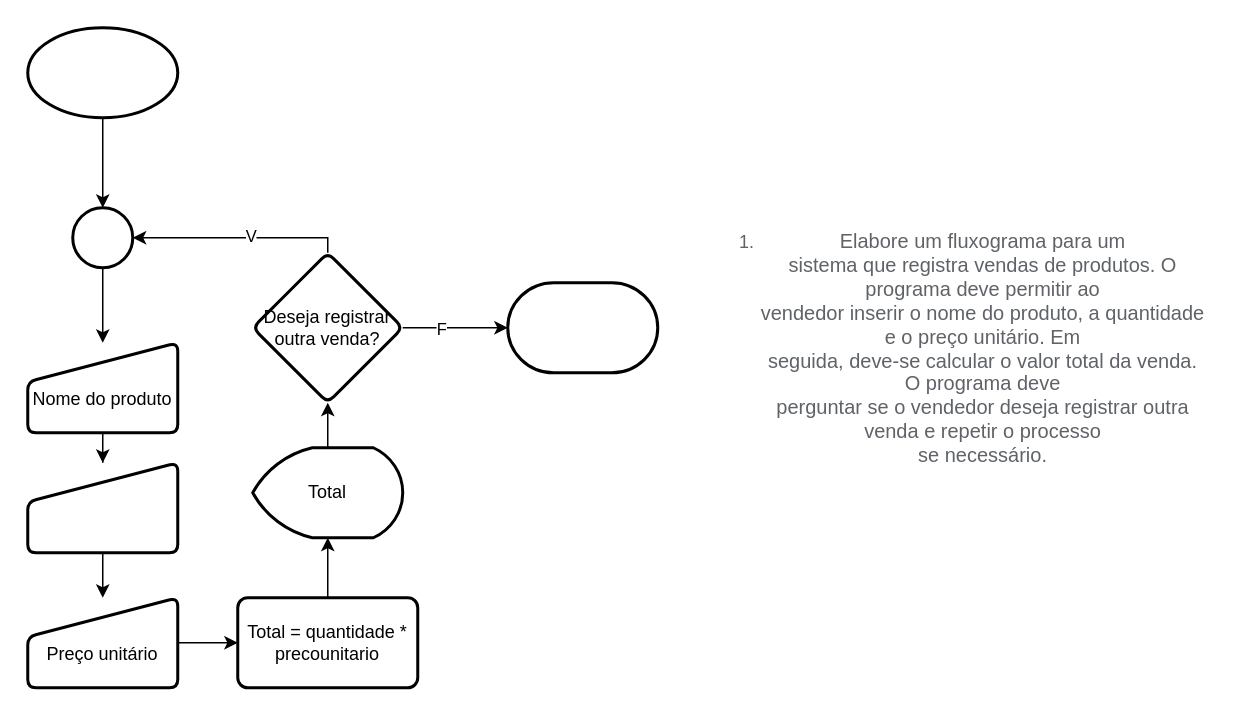
Some shapes in this 1233 by 714 pixel diagram are drawn without their labels. Each missing label, with the centre of its shape:
"FIM" goes at [582,327].
"INICIO" goes at [102,72].
"Quantidade" goes at [102,507].
